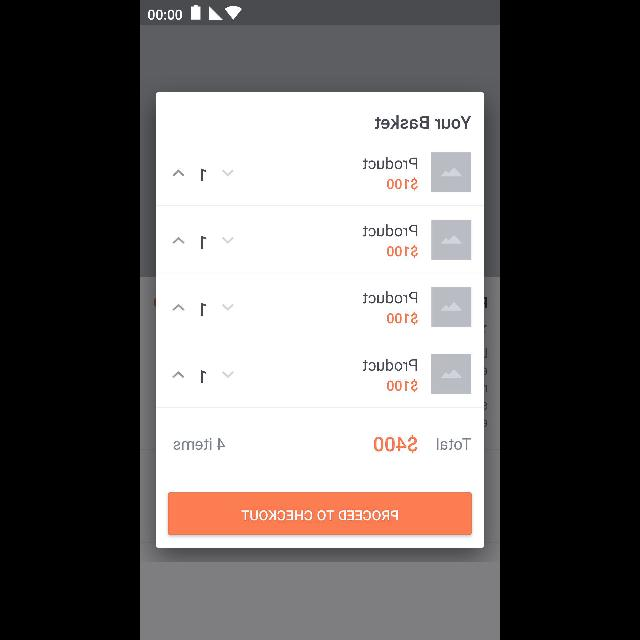icon: (172, 169, 185, 177), (222, 169, 234, 177), (172, 237, 184, 245), (222, 236, 234, 244), (222, 304, 234, 312), (172, 304, 184, 312), (222, 371, 234, 379), (172, 370, 184, 378)
image: (431, 220, 471, 260), (431, 287, 471, 327), (431, 354, 471, 394), (432, 152, 471, 192)
panel: (156, 92, 484, 548)
text: (374, 115, 472, 129), (373, 434, 417, 454), (362, 156, 418, 170), (362, 290, 418, 304), (362, 358, 418, 372), (362, 225, 418, 238), (174, 438, 226, 450), (386, 245, 418, 259), (387, 177, 418, 191), (387, 311, 418, 325), (387, 379, 418, 393), (436, 438, 472, 450), (200, 302, 208, 316), (201, 168, 207, 182), (201, 237, 207, 250), (200, 370, 206, 382)
textbutton: (168, 492, 472, 536)
uppertaskbar: (140, 0, 500, 24)
